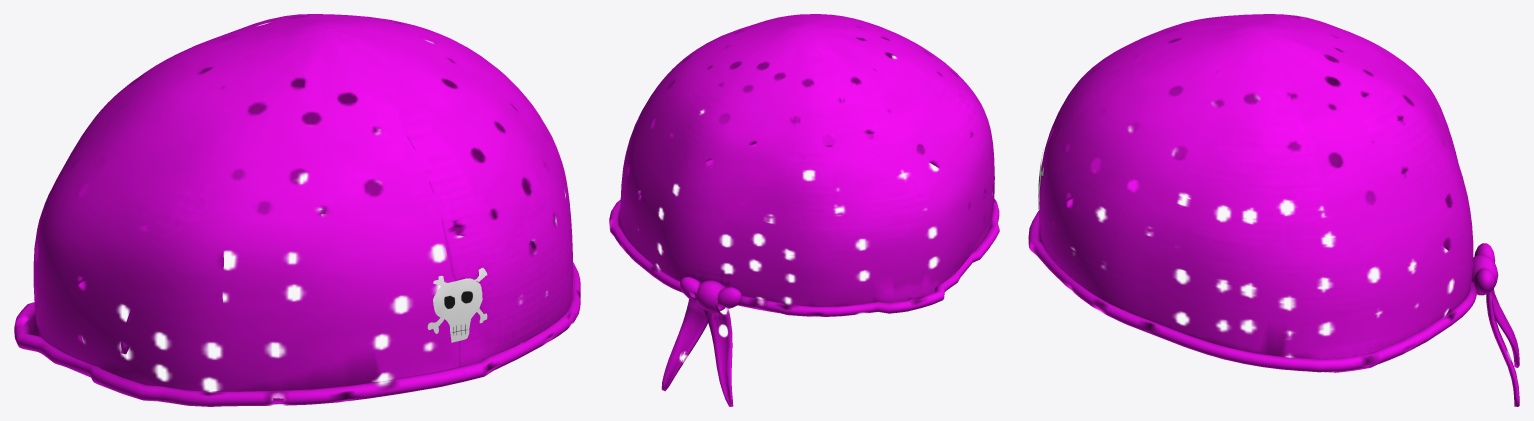
The model's file is hat_bandana_male_lo.glb.
The picture shows the model from 3 angles, left to right: view 1: azimuth 30°, elevation 25°; view 2: azimuth 150°, elevation 25°; view 3: azimuth 270°, elevation 25°; orthographic projection. The views are drawn at different scales.
Parts seen in each view (by area): view 1: hat_bandana_lo; view 2: hat_bandana_lo; view 3: hat_bandana_lo.
Part boxes in pixels (box(x1,y1,x2,y2)): hat_bandana_lo: box(14, 14, 580, 406); hat_bandana_lo: box(609, 14, 999, 406); hat_bandana_lo: box(1028, 14, 1519, 406).
Bounding box in the file's own units: 0.6244 × 0.5155 × 0.6415.
Materials: 1 (1 with a texture image).
